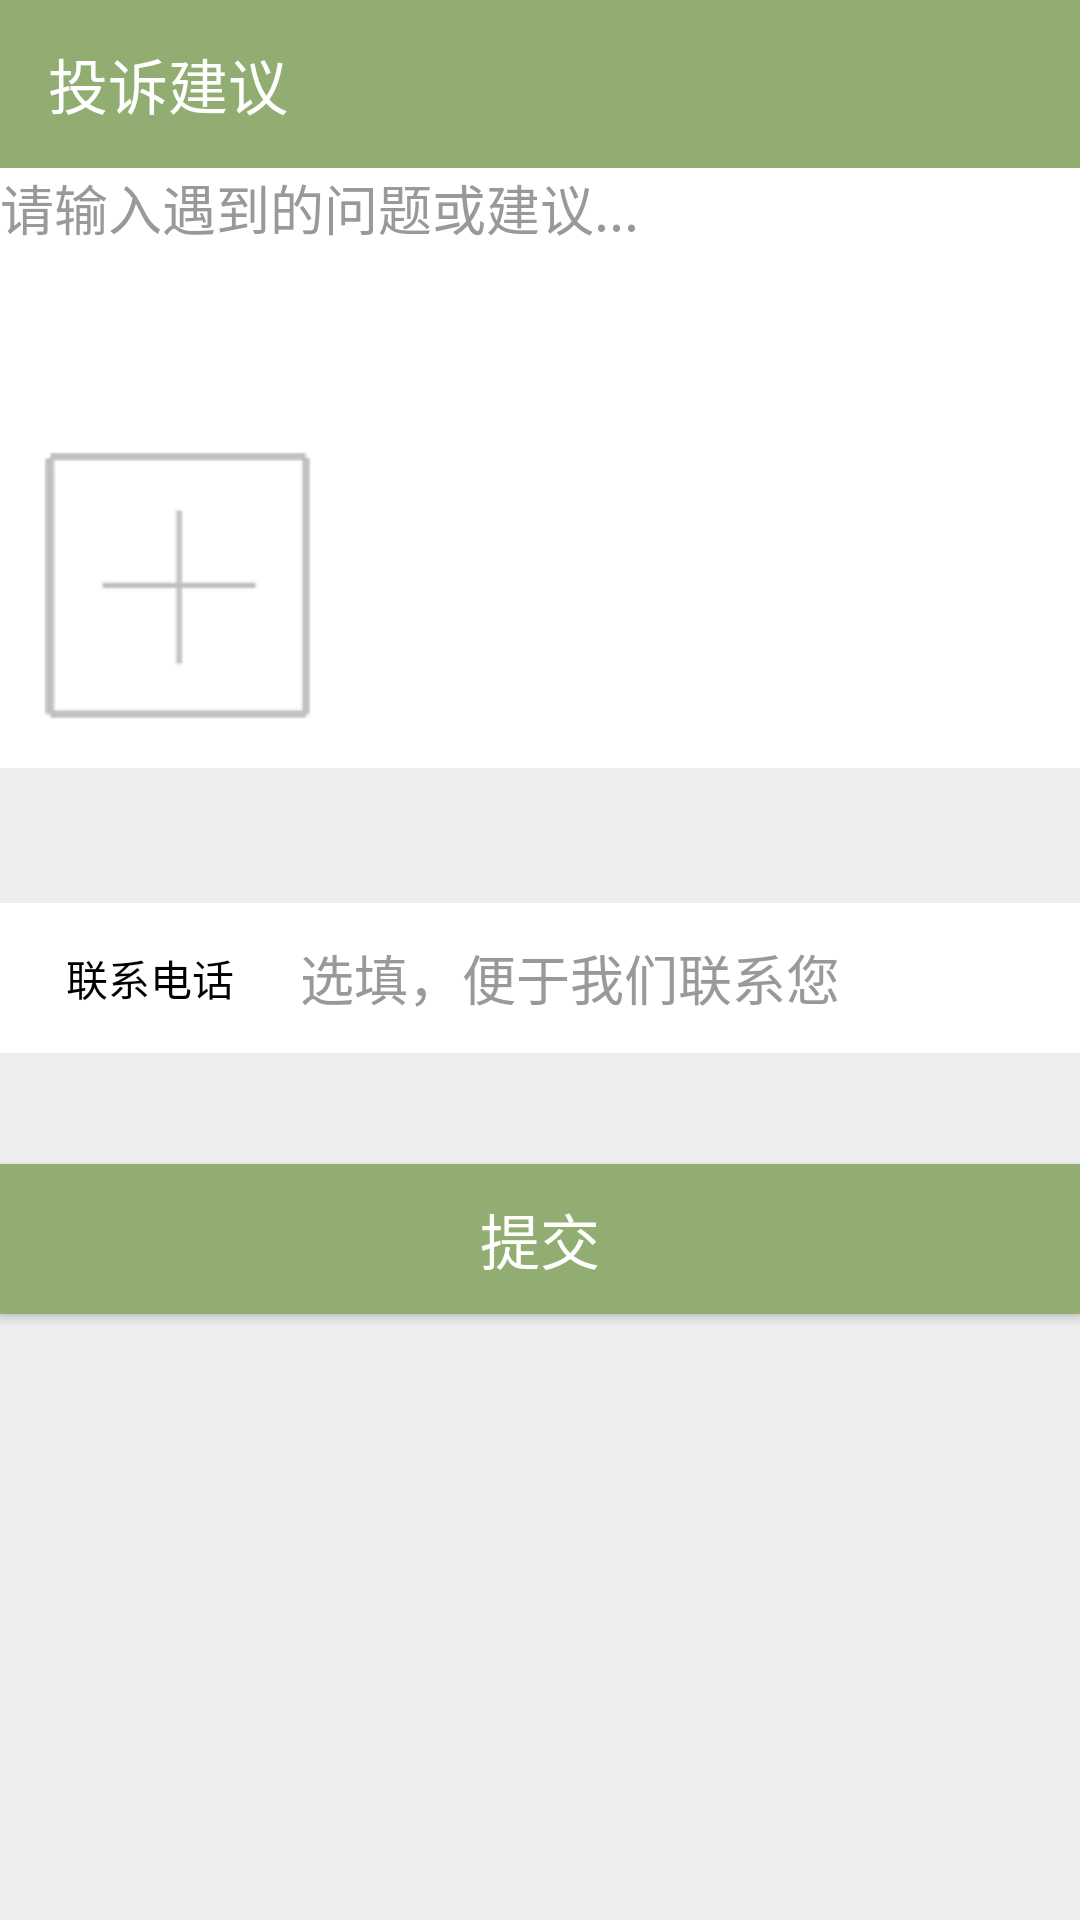

Named icons in this screenshot (1080px×1920px) and their centers, (x=x, y=y):
add: (x=177, y=585)
